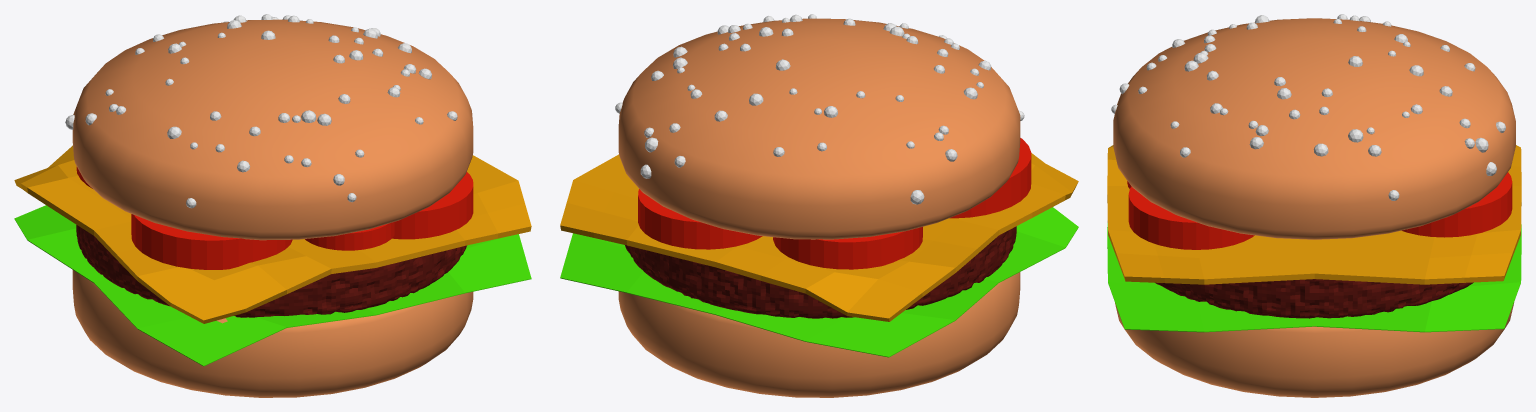
File: hamburguer.fbx
3 views of the same model, side by side, from view 1: azimuth 30°, elevation 25°; view 2: azimuth 150°, elevation 25°; view 3: azimuth 270°, elevation 25° (orthographic).
Visible parts, largest first — view 1: Cylinder.003, Hamburger, Plane.002, Plane.001, Cylinder.004, Cylinder.002, grao.001; view 2: Cylinder.003, Hamburger, Plane.002, Plane.001, Cylinder.004, Cylinder.002, grao.001; view 3: Cylinder.003, Plane.002, Hamburger, Plane.001, Cylinder.002, Cylinder.004, grao.001.
Part boxes in pixels (<box>): Cylinder.003: <box>72,19,473,240</box>; Hamburger: <box>72,270,473,397</box>; Plane.002: <box>14,145,531,323</box>; Plane.001: <box>14,205,531,366</box>; Cylinder.004: <box>76,167,473,269</box>; Cylinder.002: <box>76,225,466,317</box>; grao.001: <box>65,14,457,208</box>; Cylinder.003: <box>618,18,1020,239</box>; Hamburger: <box>618,272,1020,397</box>; Plane.002: <box>560,153,1078,321</box>; Plane.001: <box>560,207,1078,357</box>; Cylinder.004: <box>638,138,1031,269</box>; Cylinder.002: <box>625,226,1016,318</box>; grao.001: <box>615,14,1024,204</box>; Cylinder.003: <box>1113,18,1515,239</box>; Plane.002: <box>1107,145,1521,284</box>; Hamburger: <box>1115,302,1514,397</box>; Plane.001: <box>1107,223,1521,332</box>; Cylinder.002: <box>1155,279,1473,318</box>; Cylinder.004: <box>1127,172,1512,249</box>; grao.001: <box>1111,14,1505,200</box>.
Size of the model in its own units: 11.75 by 8.02 by 11.04.
